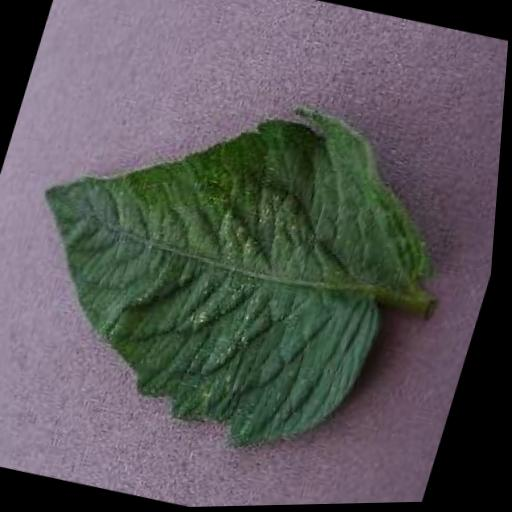Spider Mites: (0, 53, 473, 482)
